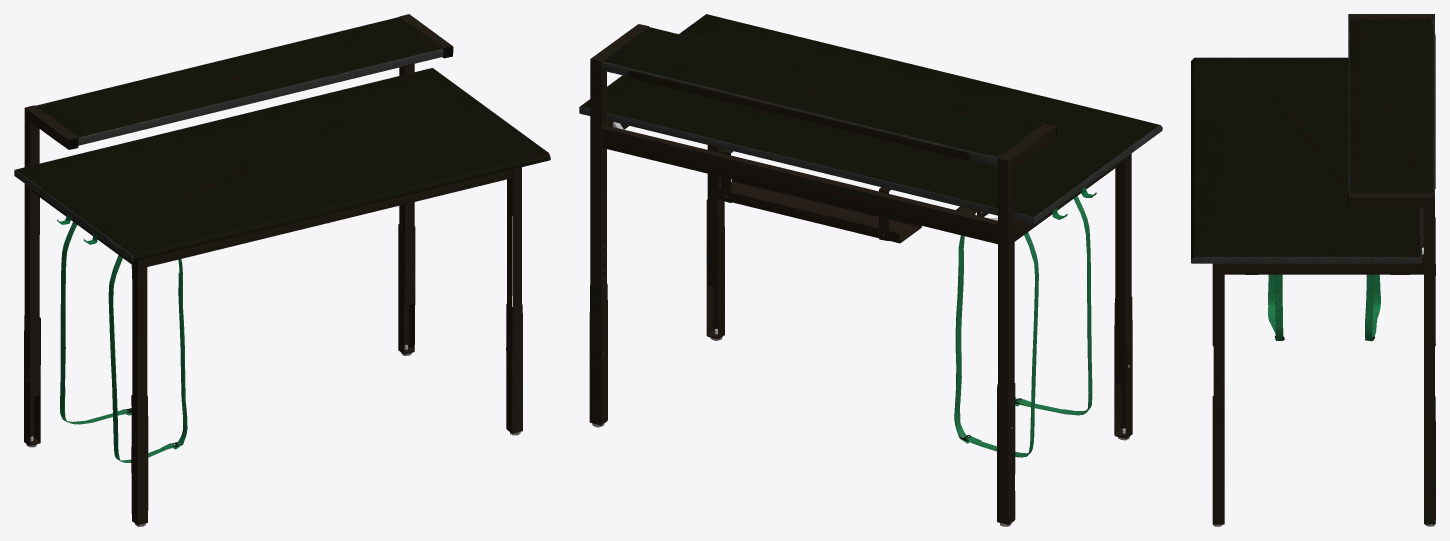
File: 34 - UTVISNING Gaming desk with shelf - black 120x60 cm.glb
3 renders of one model, left to right at view 1: azimuth 30°, elevation 25°; view 2: azimuth 150°, elevation 25°; view 3: azimuth 270°, elevation 25°, orthographic. The views are drawn at different scales.
Visible parts, largest first — view 1: 40586400-UTVISNING001; view 2: 40586400-UTVISNING001; view 3: 40586400-UTVISNING001.
Part boxes in pixels (box(x1,y1,x2,y2)): 40586400-UTVISNING001: box(14, 14, 550, 526); 40586400-UTVISNING001: box(579, 14, 1162, 526); 40586400-UTVISNING001: box(1191, 14, 1435, 526).
Size of the model in its own units: 1.2 by 0.9251 by 0.6218.
Materials: 2 (2 with a texture image).
